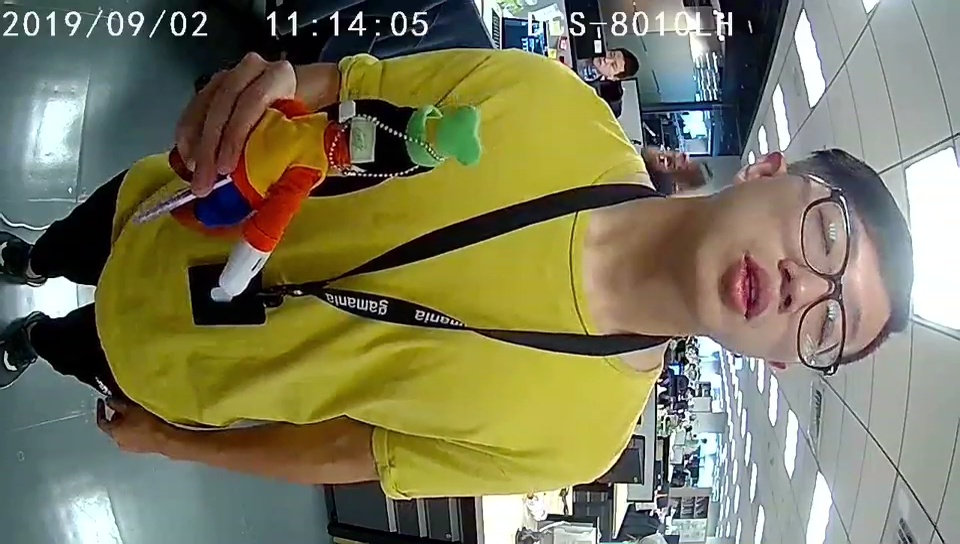goofy: (218, 103, 478, 296)
